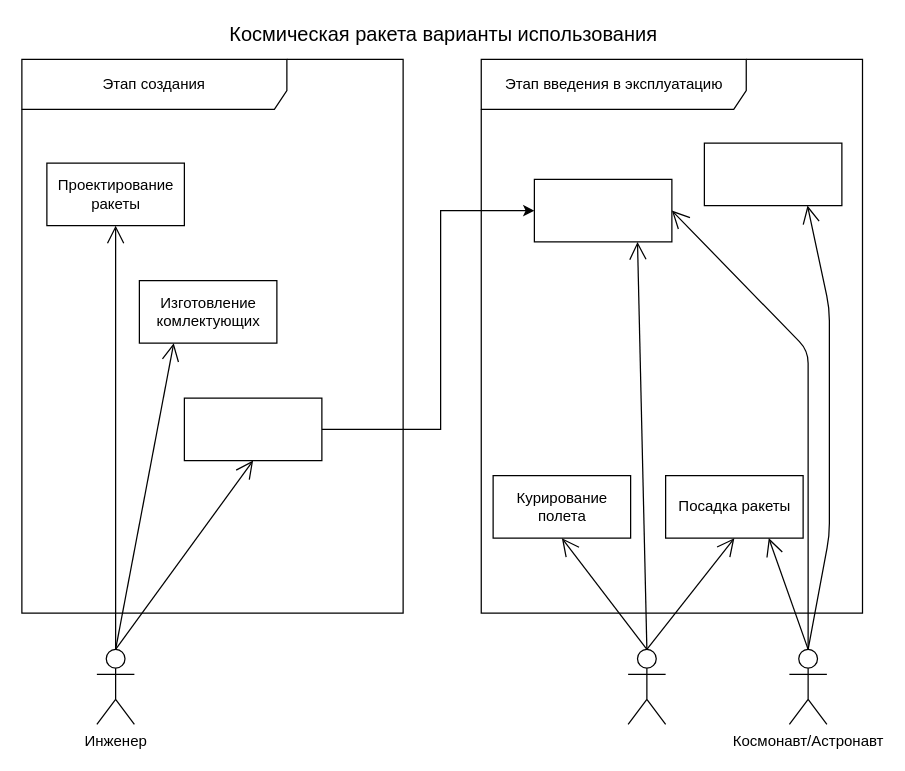
The diagram is 905 pixels wide and 771 high, and some of its shapes have lost their labels. The centre of each missing label's shape, as x and y in pixels:
"Диспетчер" belongs at (x=646, y=686).
"Запуск собранной ракеты" belongs at (x=602, y=210).
"Проведение исследований" belongs at (x=772, y=174).
"Сборка ракеты" belongs at (x=252, y=429).
